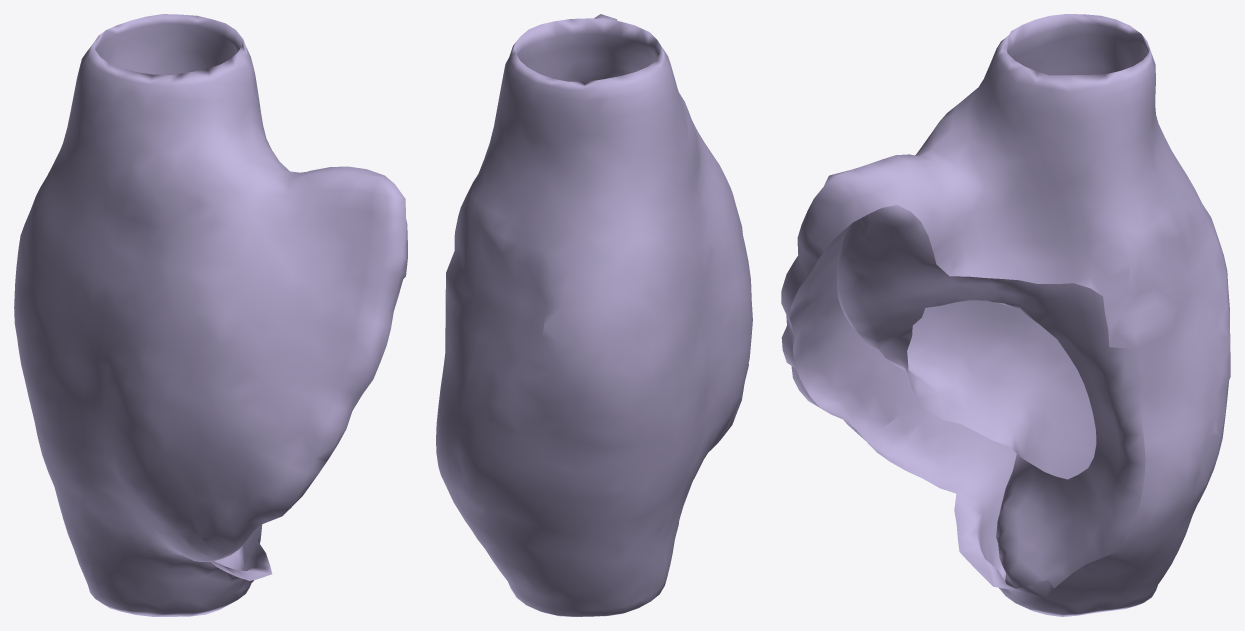
The model's file is atrio_direito.glb.
The picture shows the model from 3 angles, left to right: view 1: azimuth 30°, elevation 25°; view 2: azimuth 150°, elevation 25°; view 3: azimuth 270°, elevation 25°; orthographic projection.
Visible parts, largest first — view 1: atrio_direito; view 2: atrio_direito; view 3: atrio_direito.
Part boxes in pixels (x1,y1,x2,y2): atrio_direito: (14, 14, 407, 616); atrio_direito: (436, 14, 752, 616); atrio_direito: (781, 14, 1230, 616).
Size of the model in its own units: 0.045 by 0.0997 by 0.0745.
